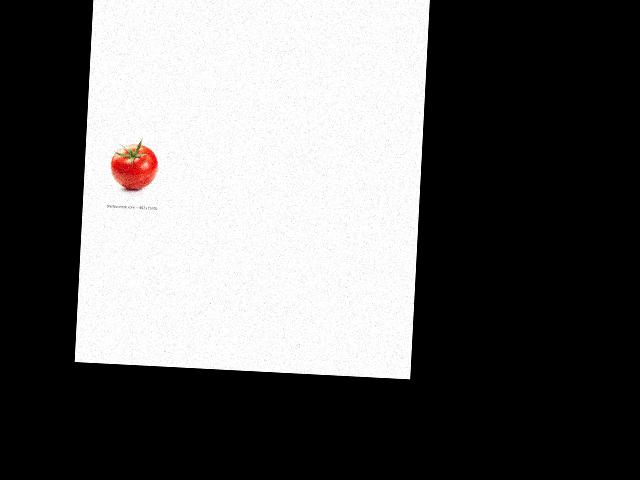tomato: (110, 143, 158, 190)
